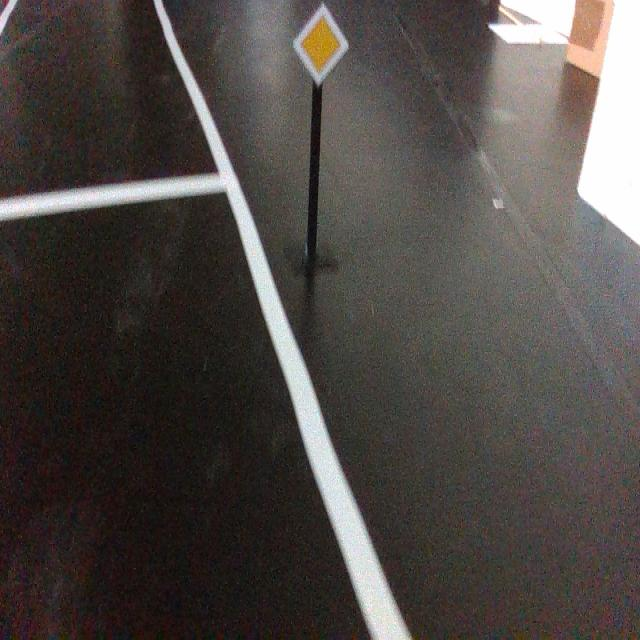priority-sign: (292, 0, 349, 88)
